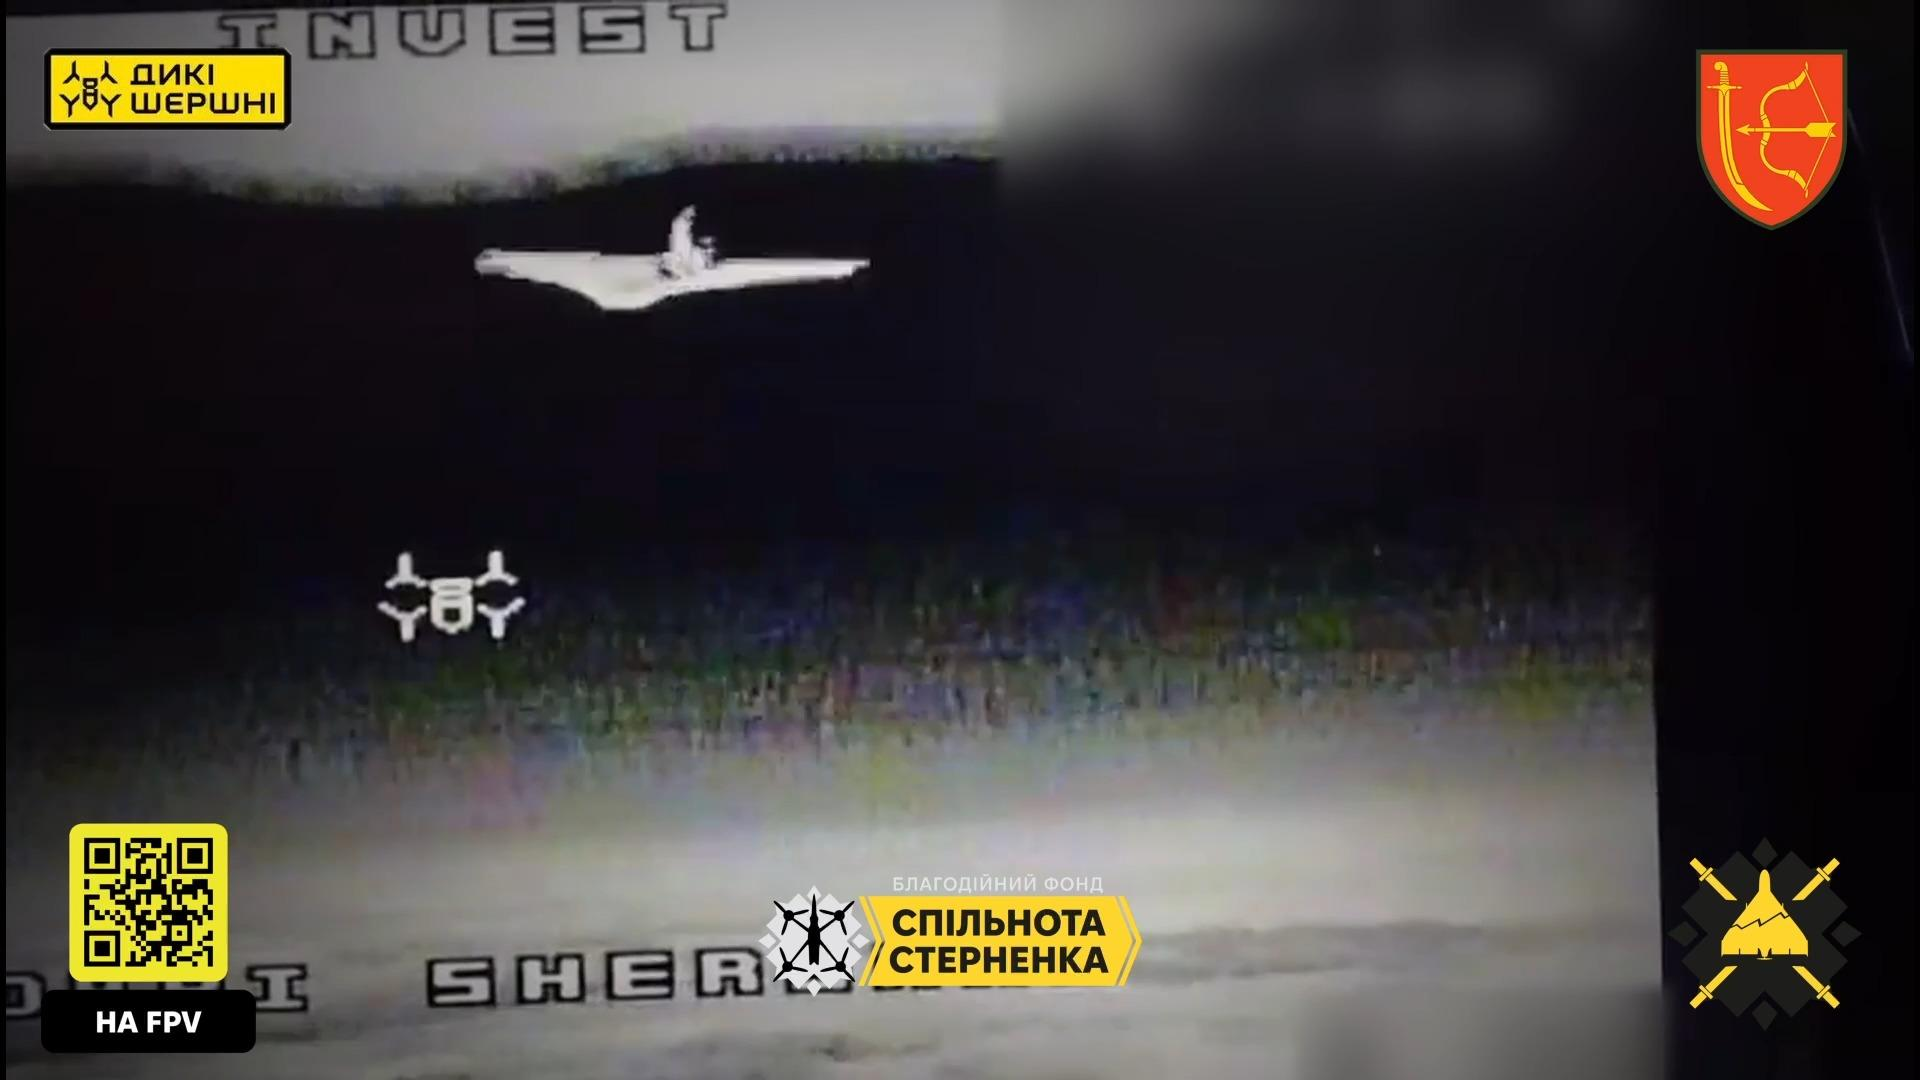Gerbera: (475, 204, 876, 313)
